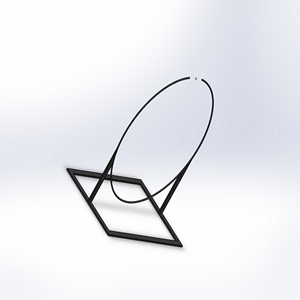circle: (65, 74, 216, 250)
